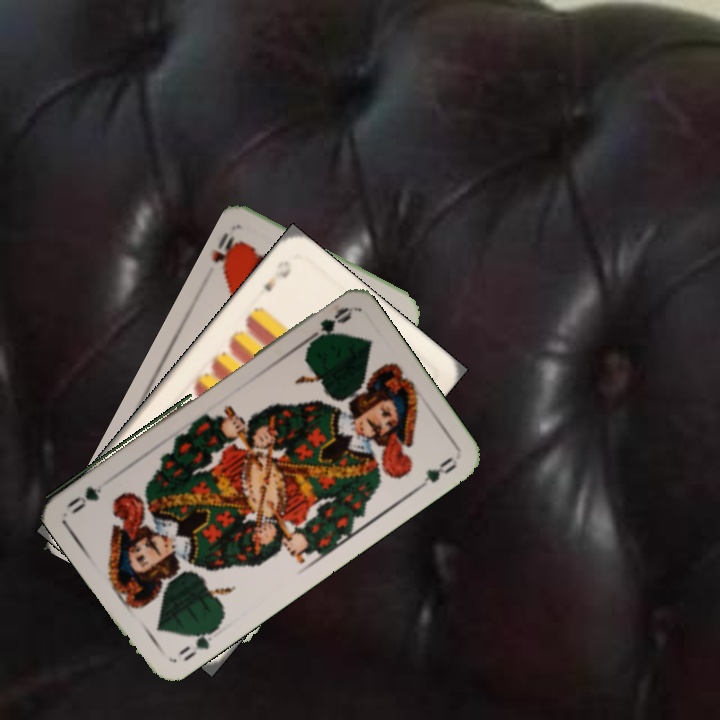E9: (259, 256, 295, 295)
GO: (300, 303, 354, 350), (174, 624, 220, 664)
HO: (207, 229, 245, 278)
